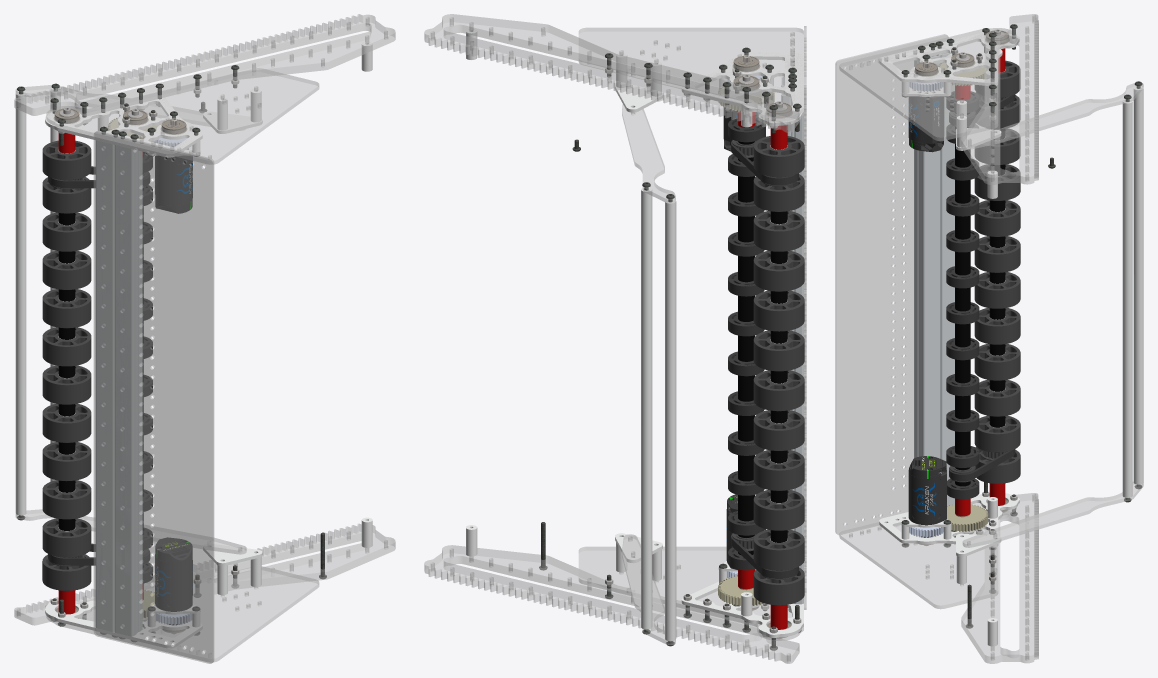
3 views of the same model, side by side, from view 1: azimuth 30°, elevation 25°; view 2: azimuth 150°, elevation 25°; view 3: azimuth 270°, elevation 25° (orthographic). The views are drawn at different scales.
Visible parts, largest first — view 1: Solid1 (×26), Solid2 (×2); view 2: Solid1 (×27), Solid2 (×3); view 3: Solid1 (×29), Solid2 (×12).
Part boxes in pixels (x1,y1,x2,y2): Solid1 (×26): [14, 14, 395, 663]; Solid2 (×2): [45, 96, 202, 648]; Solid1 (×27): [424, 14, 806, 663]; Solid2 (×3): [681, 52, 803, 637]; Solid1 (×29): [835, 14, 1143, 663]; Solid2 (×12): [879, 32, 1019, 547].
Size of the model in its own units: 0.4811 by 0.6714 by 0.3829.
Materials: 28 (1 with a texture image).
